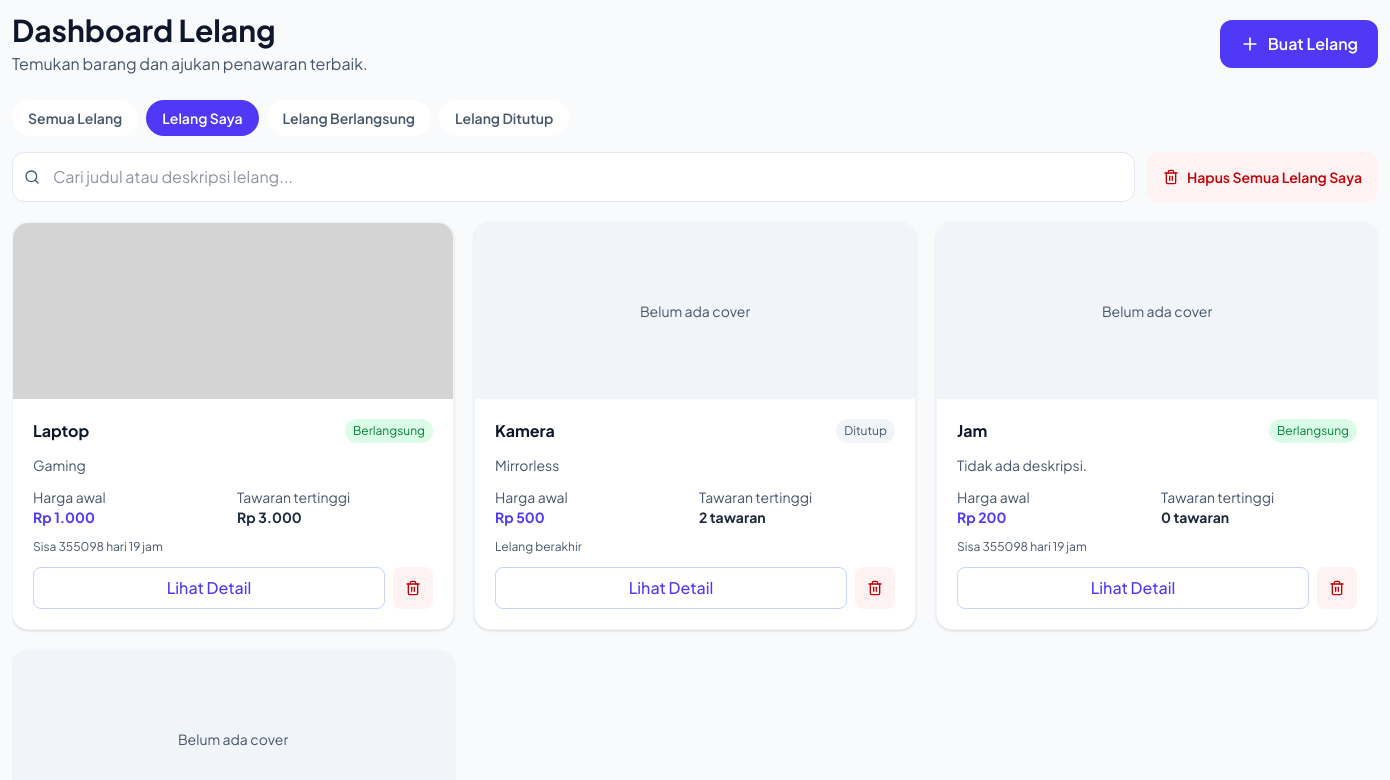
HomePage › menghapus seluruh lelang milik pengguna
The width and height of the screenshot is (1390, 780).
Step 1. Click the button "Hapus Semua Lelang Saya" → (1262, 177), box [1147, 152, 1378, 202]
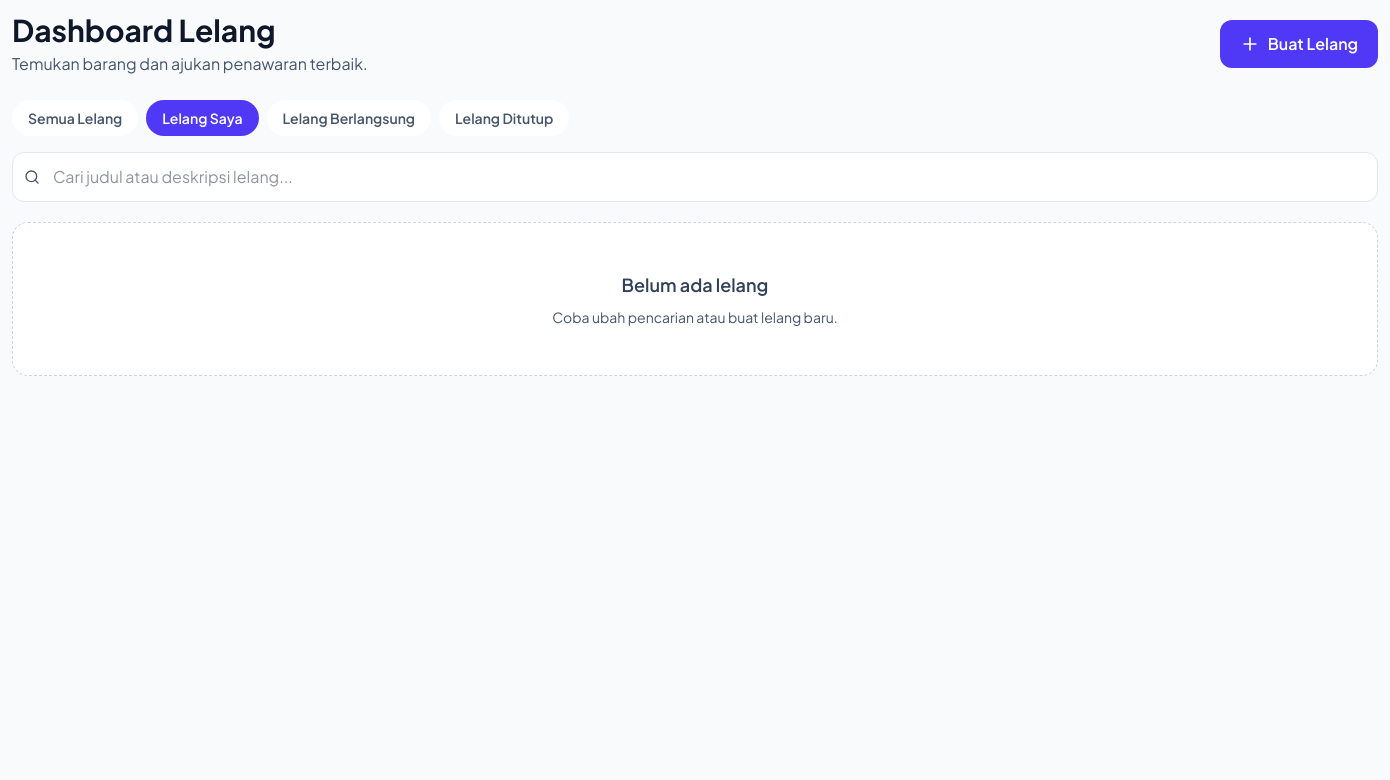
Expected: no elements with test id "aucation-card" are shown
